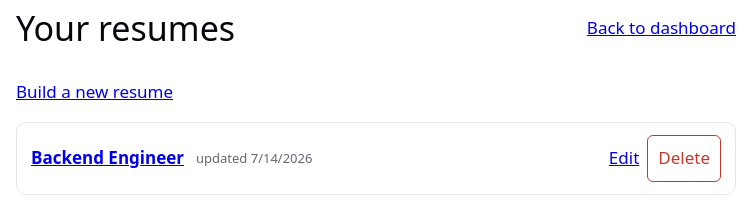
resume list › lists resumes and deletes on confirm
The width and height of the screenshot is (753, 212).
Expected: the text "Backend Engineer" is shown, left=31, top=146, right=184, bottom=169
Click the button "Delete" at (684, 158), box left=647, top=135, right=721, bottom=182
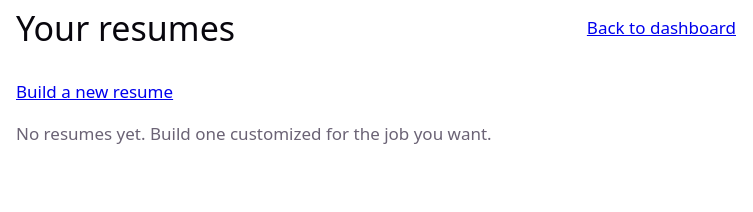
Result: the text "No resumes yet. Build one customized for the job you want." is shown at left=16, top=122, right=492, bottom=145
